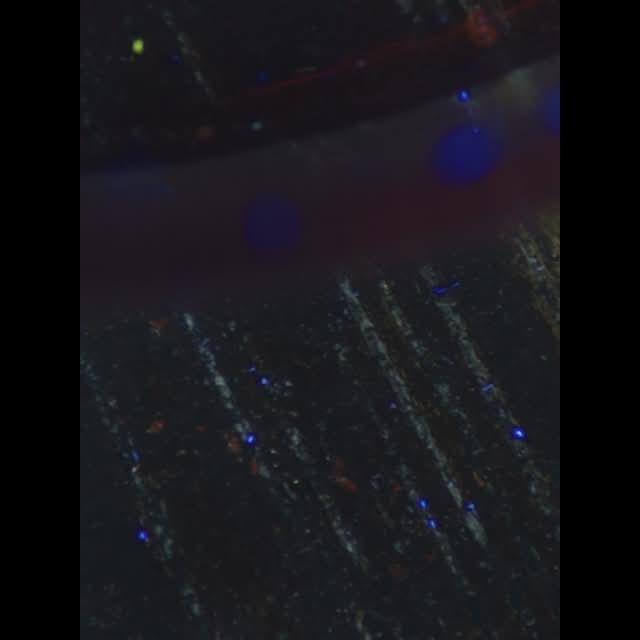microbeads: (132, 38, 144, 54)
